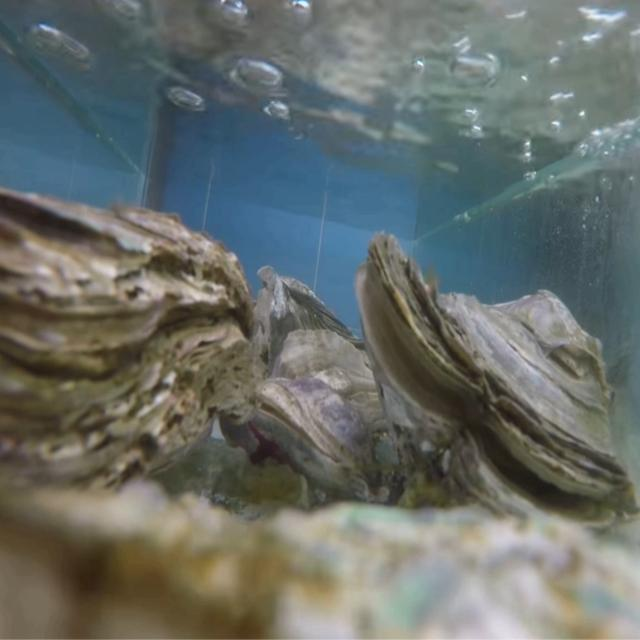Oyster-Closed: (0, 188, 256, 532), (250, 327, 408, 504)
Oyster-Indeterminate: (0, 482, 640, 640)
Oyster-Open: (354, 232, 640, 541)
